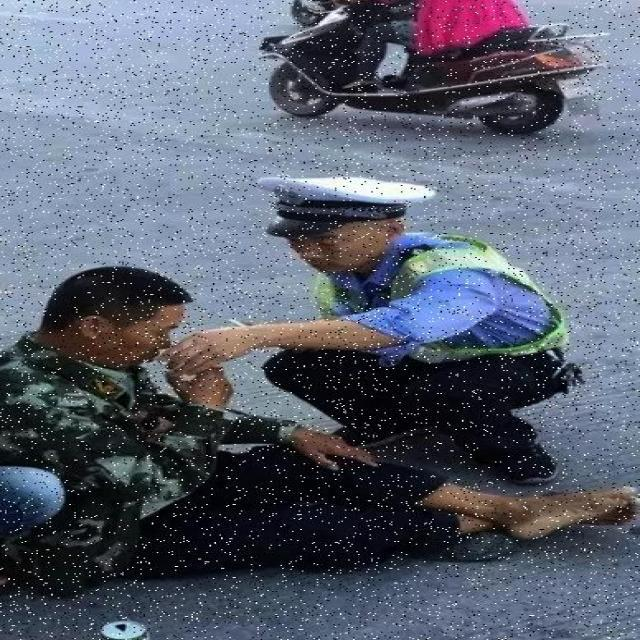fall: (21, 291, 598, 558)
